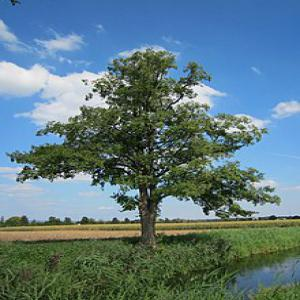Tree: (10, 41, 285, 244)
